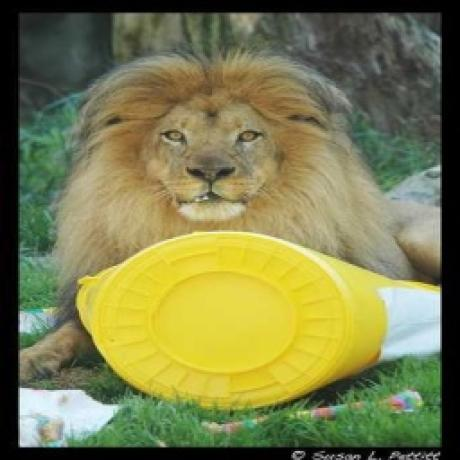Lion: (23, 42, 401, 250)
